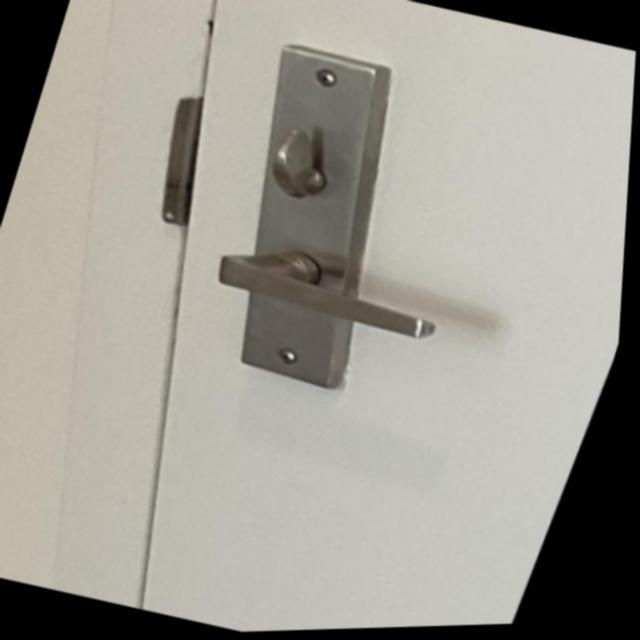door_handle: (176, 209, 487, 388)
